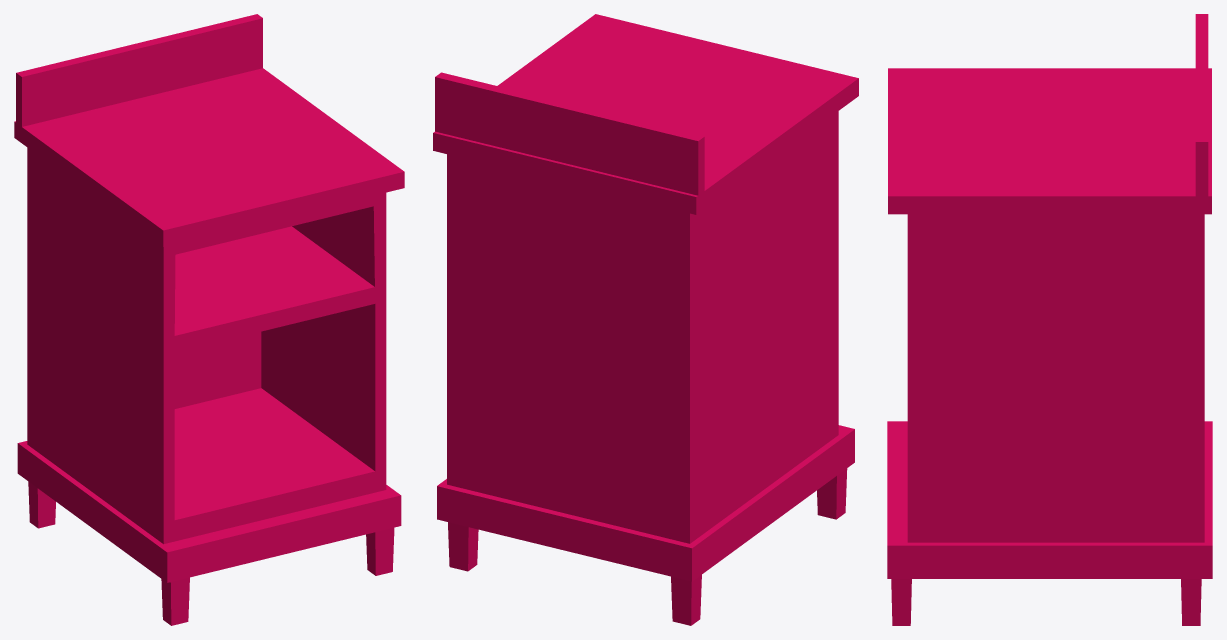
Rendered from Cupboard_05_Lod0.fbx.
The picture shows the model from 3 angles, left to right: view 1: azimuth 30°, elevation 25°; view 2: azimuth 150°, elevation 25°; view 3: azimuth 270°, elevation 25°; orthographic projection. The views are drawn at different scales.
Parts seen in each view (by area): view 1: Cupboard_05_Lod0; view 2: Cupboard_05_Lod0; view 3: Cupboard_05_Lod0.
Part boxes in pixels (<box>): Cupboard_05_Lod0: <box>14,14,404,625</box>; Cupboard_05_Lod0: <box>433,14,858,625</box>; Cupboard_05_Lod0: <box>887,14,1212,625</box>.
Size of the model in its own units: 52.58 by 93.59 by 56.39.
